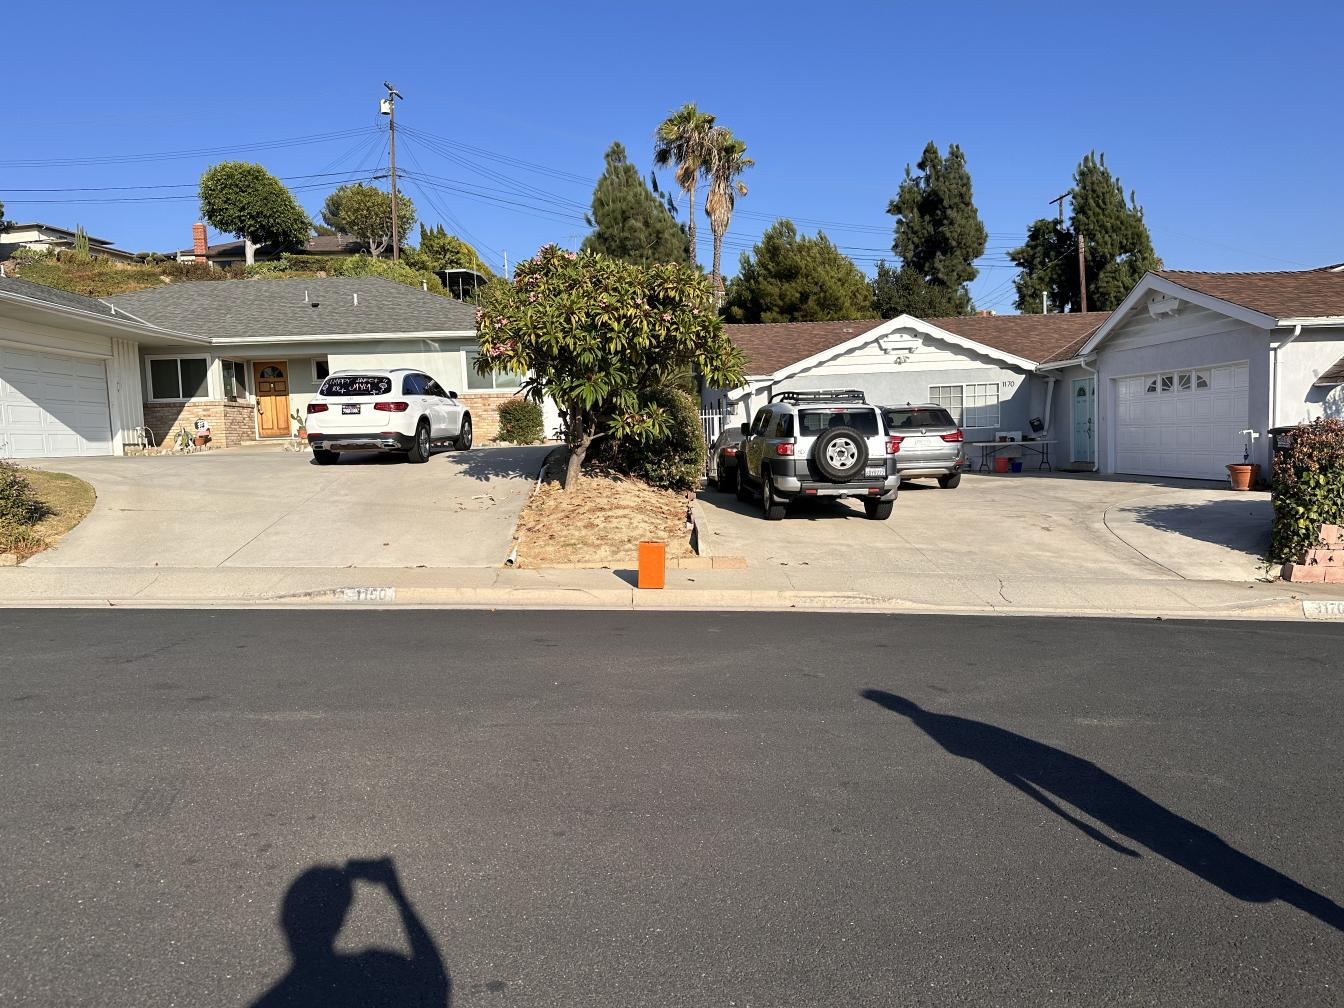curbs-laRr: (395, 587, 860, 614)
orange box: (639, 541, 667, 590)
